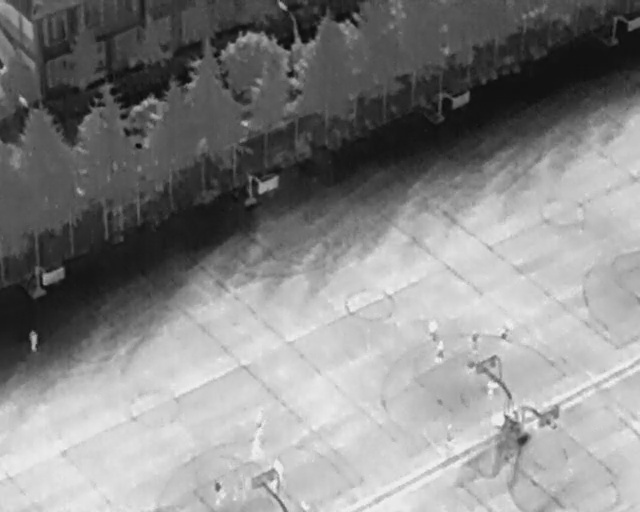Person: (482, 377, 501, 399), (273, 457, 286, 485), (433, 338, 446, 363), (211, 479, 223, 504), (498, 322, 513, 341), (427, 318, 439, 341), (28, 328, 38, 354), (463, 358, 478, 375), (469, 330, 481, 350), (252, 408, 264, 428)
